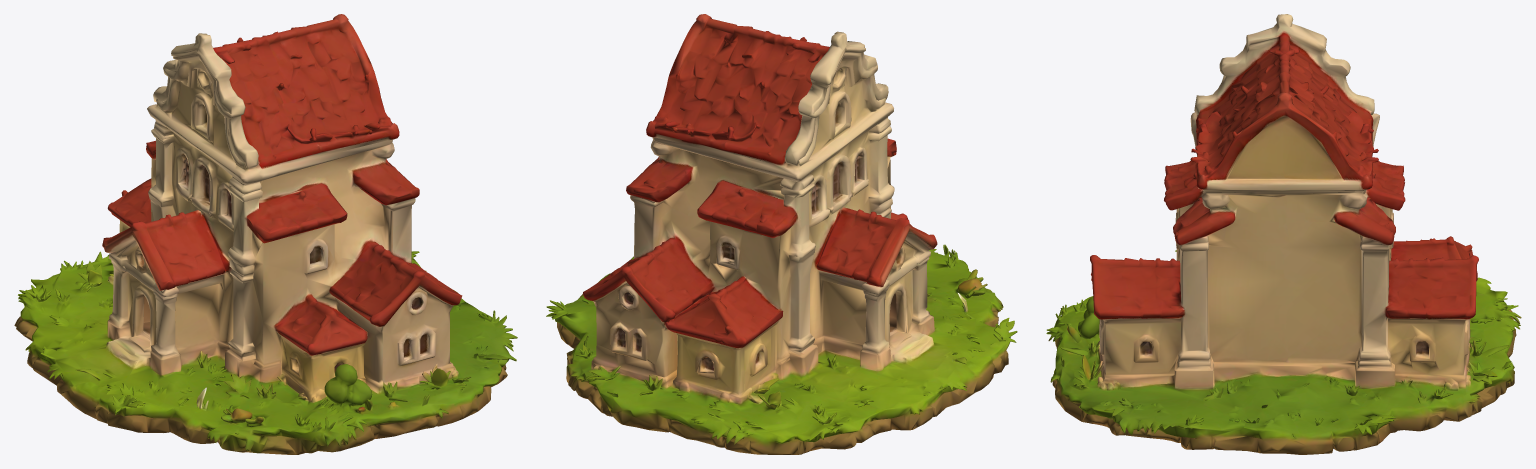
File: wlodawa.glb
3 renders of one model, left to right at view 1: azimuth 30°, elevation 25°; view 2: azimuth 150°, elevation 25°; view 3: azimuth 270°, elevation 25°, orthographic. The views are drawn at different scales.
Parts seen in each view (by area): view 1: tripo_node_9969acfd-03ed-474d-9f89-dbb1e776a9a7; view 2: tripo_node_9969acfd-03ed-474d-9f89-dbb1e776a9a7; view 3: tripo_node_9969acfd-03ed-474d-9f89-dbb1e776a9a7.
Boxes of the visible parts, x1,y1,x2,y2 form: tripo_node_9969acfd-03ed-474d-9f89-dbb1e776a9a7: (14,14,517,454); tripo_node_9969acfd-03ed-474d-9f89-dbb1e776a9a7: (546,14,1017,454); tripo_node_9969acfd-03ed-474d-9f89-dbb1e776a9a7: (1046,14,1521,454).
Bounding box in the file's own units: 0.9143 × 0.7399 × 0.9803.
Materials: 1 (1 with a texture image).
